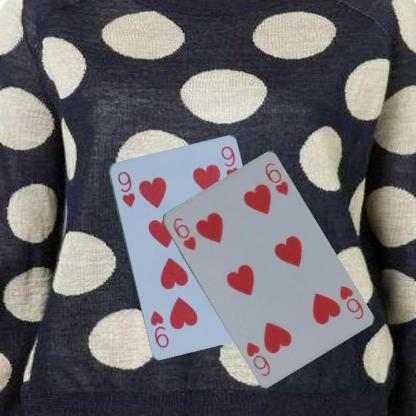6h: (336, 283, 365, 320), (170, 214, 197, 252)
9h: (114, 168, 136, 209)
